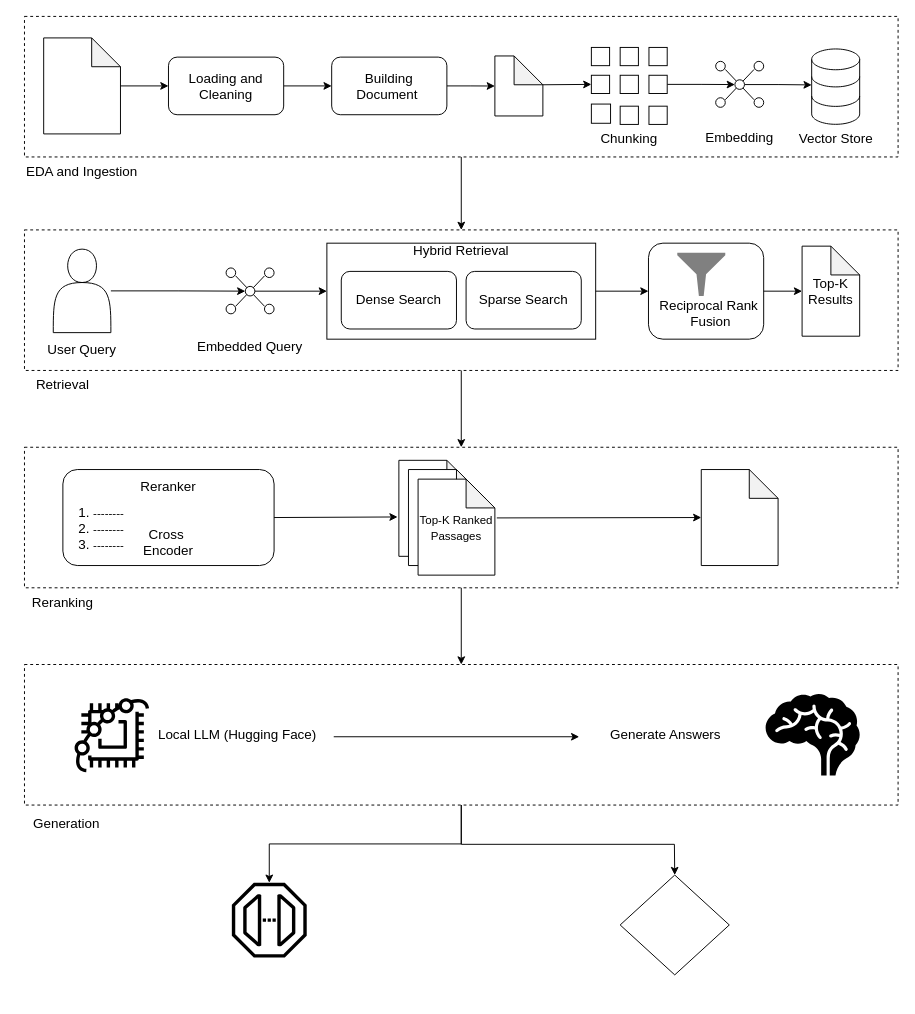
The diagram is 915 pixels wide and 1014 high, and some of its shapes have lost their labels. The centre of each missing label's shape, as x and y in pixels:
"Concatenated Passages" goes at (x=739, y=517).
"Evaluation and Analysis" goes at (x=674, y=924).
"LFJobs.csv" goes at (x=81, y=85).
"Serving (Fast API)" goes at (x=268, y=919).
